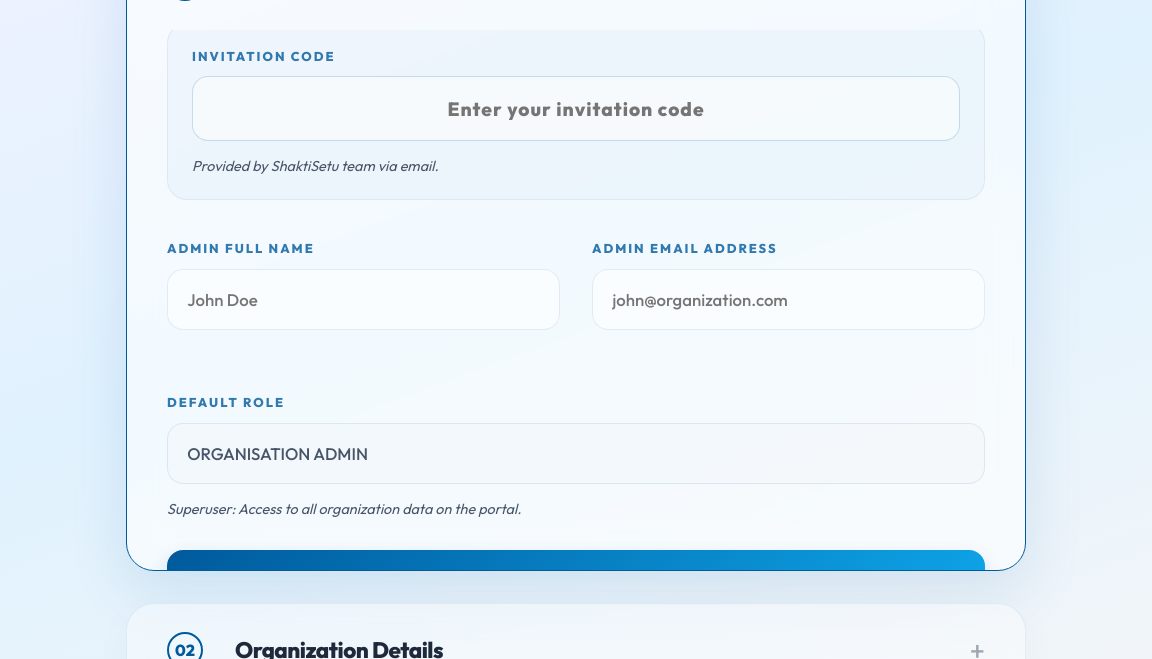
Test: OnboardingPage › shows error for invalid email format
(page scrolled)
Type "invalid-email" into the field with placeholder "john@organization.com" at (788, 299), box left=592, top=268, right=985, bottom=330
(page scrolled)
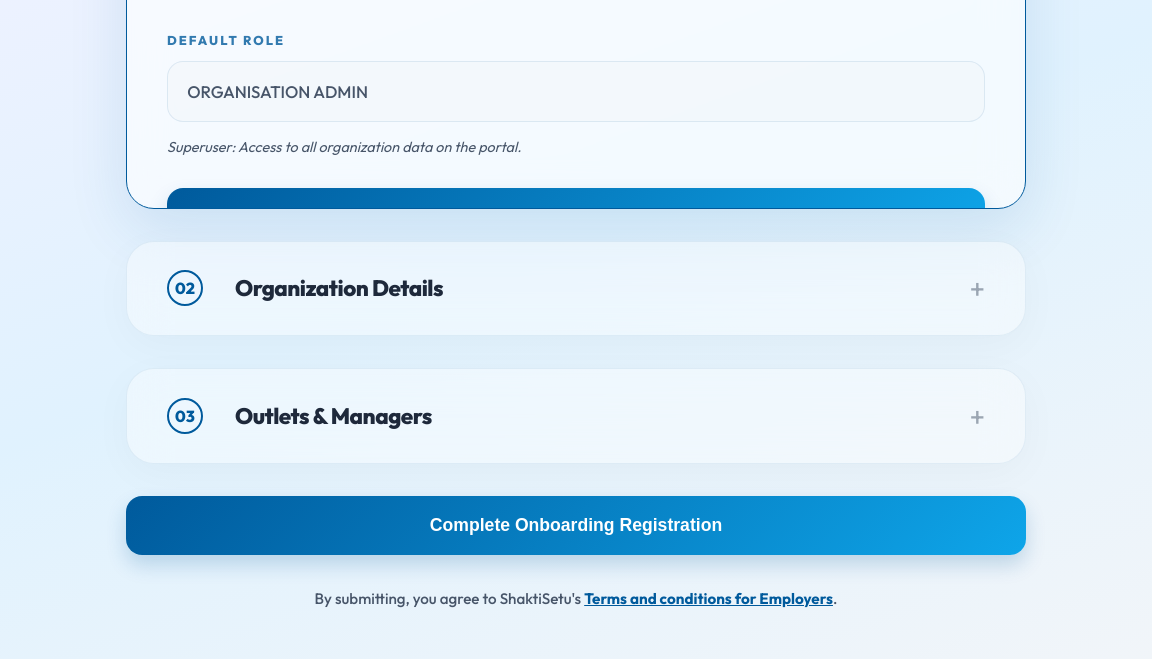
Click the button "Complete Onboarding Registration" at (576, 526), box left=126, top=496, right=1026, bottom=555
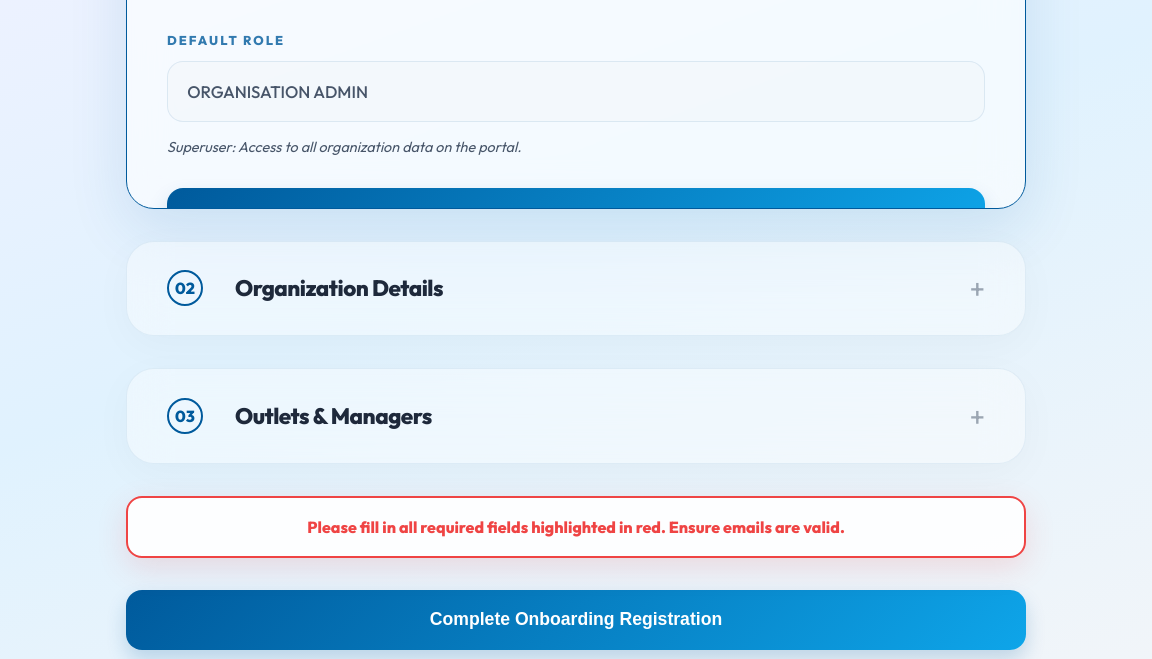
Result: the text "Please fill in all required fields highlighted in red. Ensure emails are valid." is shown at left=126, top=496, right=1026, bottom=558
